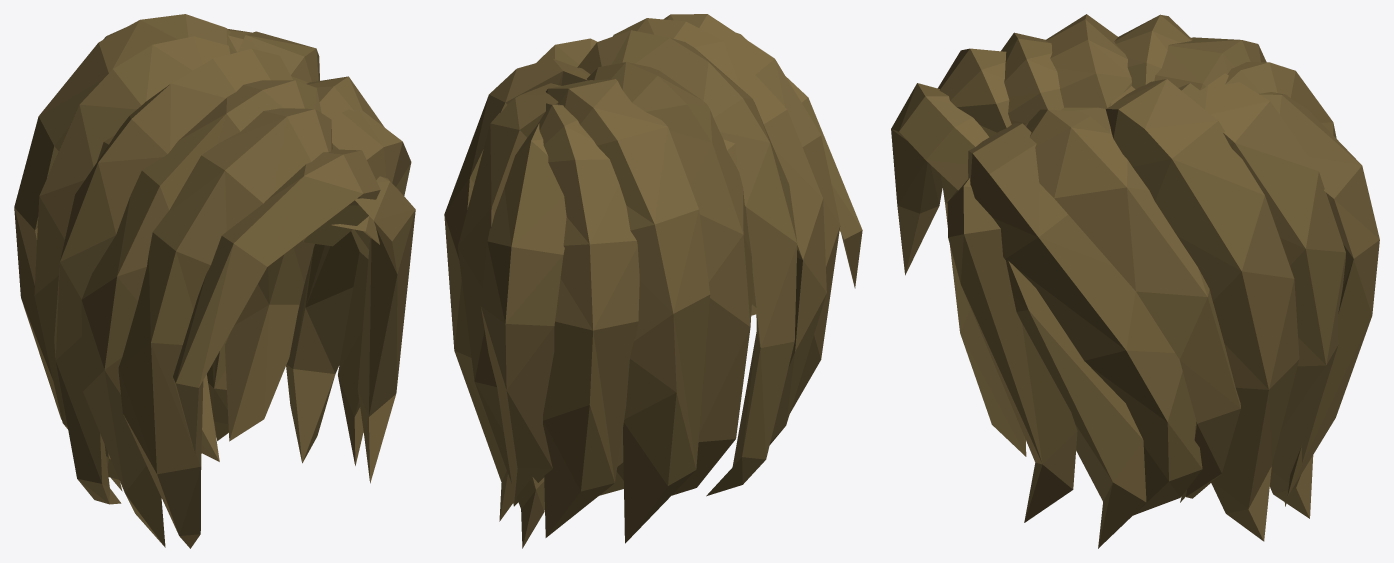
File: hair-bob.high.a7a26fdf.glb
3 views of the same model, side by side, from view 1: azimuth 30°, elevation 25°; view 2: azimuth 150°, elevation 25°; view 3: azimuth 270°, elevation 25° (orthographic). The views are drawn at different scales.
Visible parts, largest first — view 1: hair-bob; view 2: hair-bob; view 3: hair-bob.
Boxes of the visible parts, bbox=[...] form: hair-bob: bbox=[14, 14, 415, 548]; hair-bob: bbox=[444, 14, 862, 548]; hair-bob: bbox=[891, 14, 1379, 548].
Size of the model in its own units: 0.2312 by 0.3203 by 0.2919.
